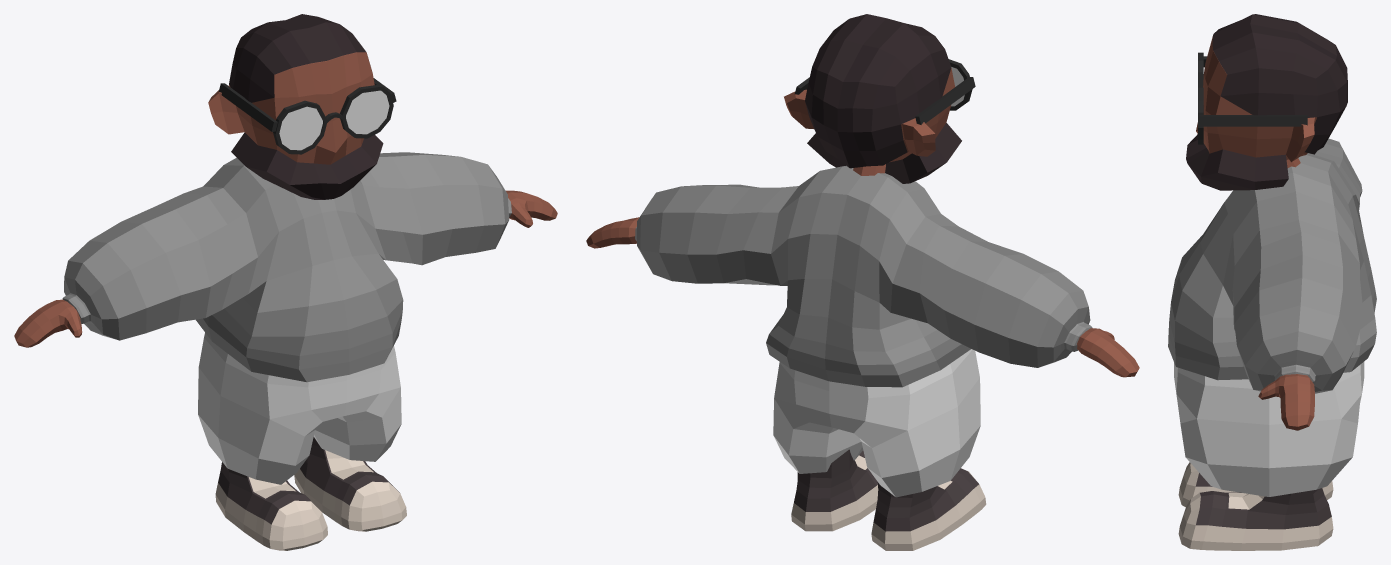
Rendered from surveillant.fbx.
The picture shows the model from 3 angles, left to right: view 1: azimuth 30°, elevation 25°; view 2: azimuth 150°, elevation 25°; view 3: azimuth 270°, elevation 25°; orthographic projection.
Parts seen in each view (by area): view 1: Cube.002, Cube.007, Cube.005, Cube.004, Cube.006, Cylinder, Cube.003; view 2: Cube.002, Cube.007, Cube.006, Cube.004, Cube.005, Cube.003, Cylinder; view 3: Cube.002, Cube.007, Cube.006, Cube.004, Cube.005, Cube.003, Cylinder.
Boxes of the visible parts, box(x1,y1,x2,y2) form: Cube.002: box(62, 152, 511, 382); Cube.007: box(198, 332, 401, 484); Cube.005: box(208, 52, 383, 199); Cube.004: box(215, 437, 406, 550); Cube.006: box(229, 14, 370, 102); Cylinder: box(219, 78, 396, 154); Cube.003: box(14, 190, 557, 347); Cube.002: box(635, 165, 1092, 387); Cube.007: box(773, 349, 980, 497); Cube.006: box(805, 14, 951, 168); Cube.004: box(791, 449, 986, 550); Cube.005: box(784, 68, 961, 183); Cube.003: box(586, 217, 1139, 377); Cylinder: box(794, 59, 975, 124); Cube.002: box(1168, 138, 1376, 393); Cube.007: box(1174, 361, 1364, 496); Cube.006: box(1212, 14, 1347, 154); Cube.004: box(1178, 462, 1333, 550); Cube.005: box(1186, 36, 1316, 190); Cube.003: box(1258, 374, 1314, 430); Cylinder: box(1198, 52, 1307, 144).
Size of the model in its own units: 1.3 by 0.4302 by 1.13.
